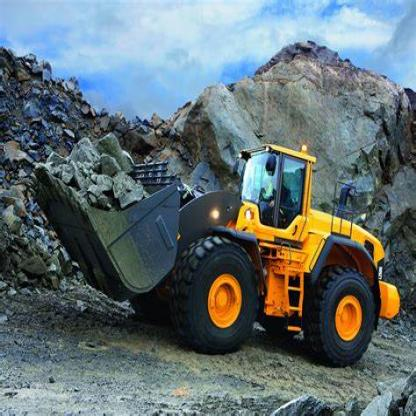bull_dozer/loader/grader: (28, 124, 406, 378)
